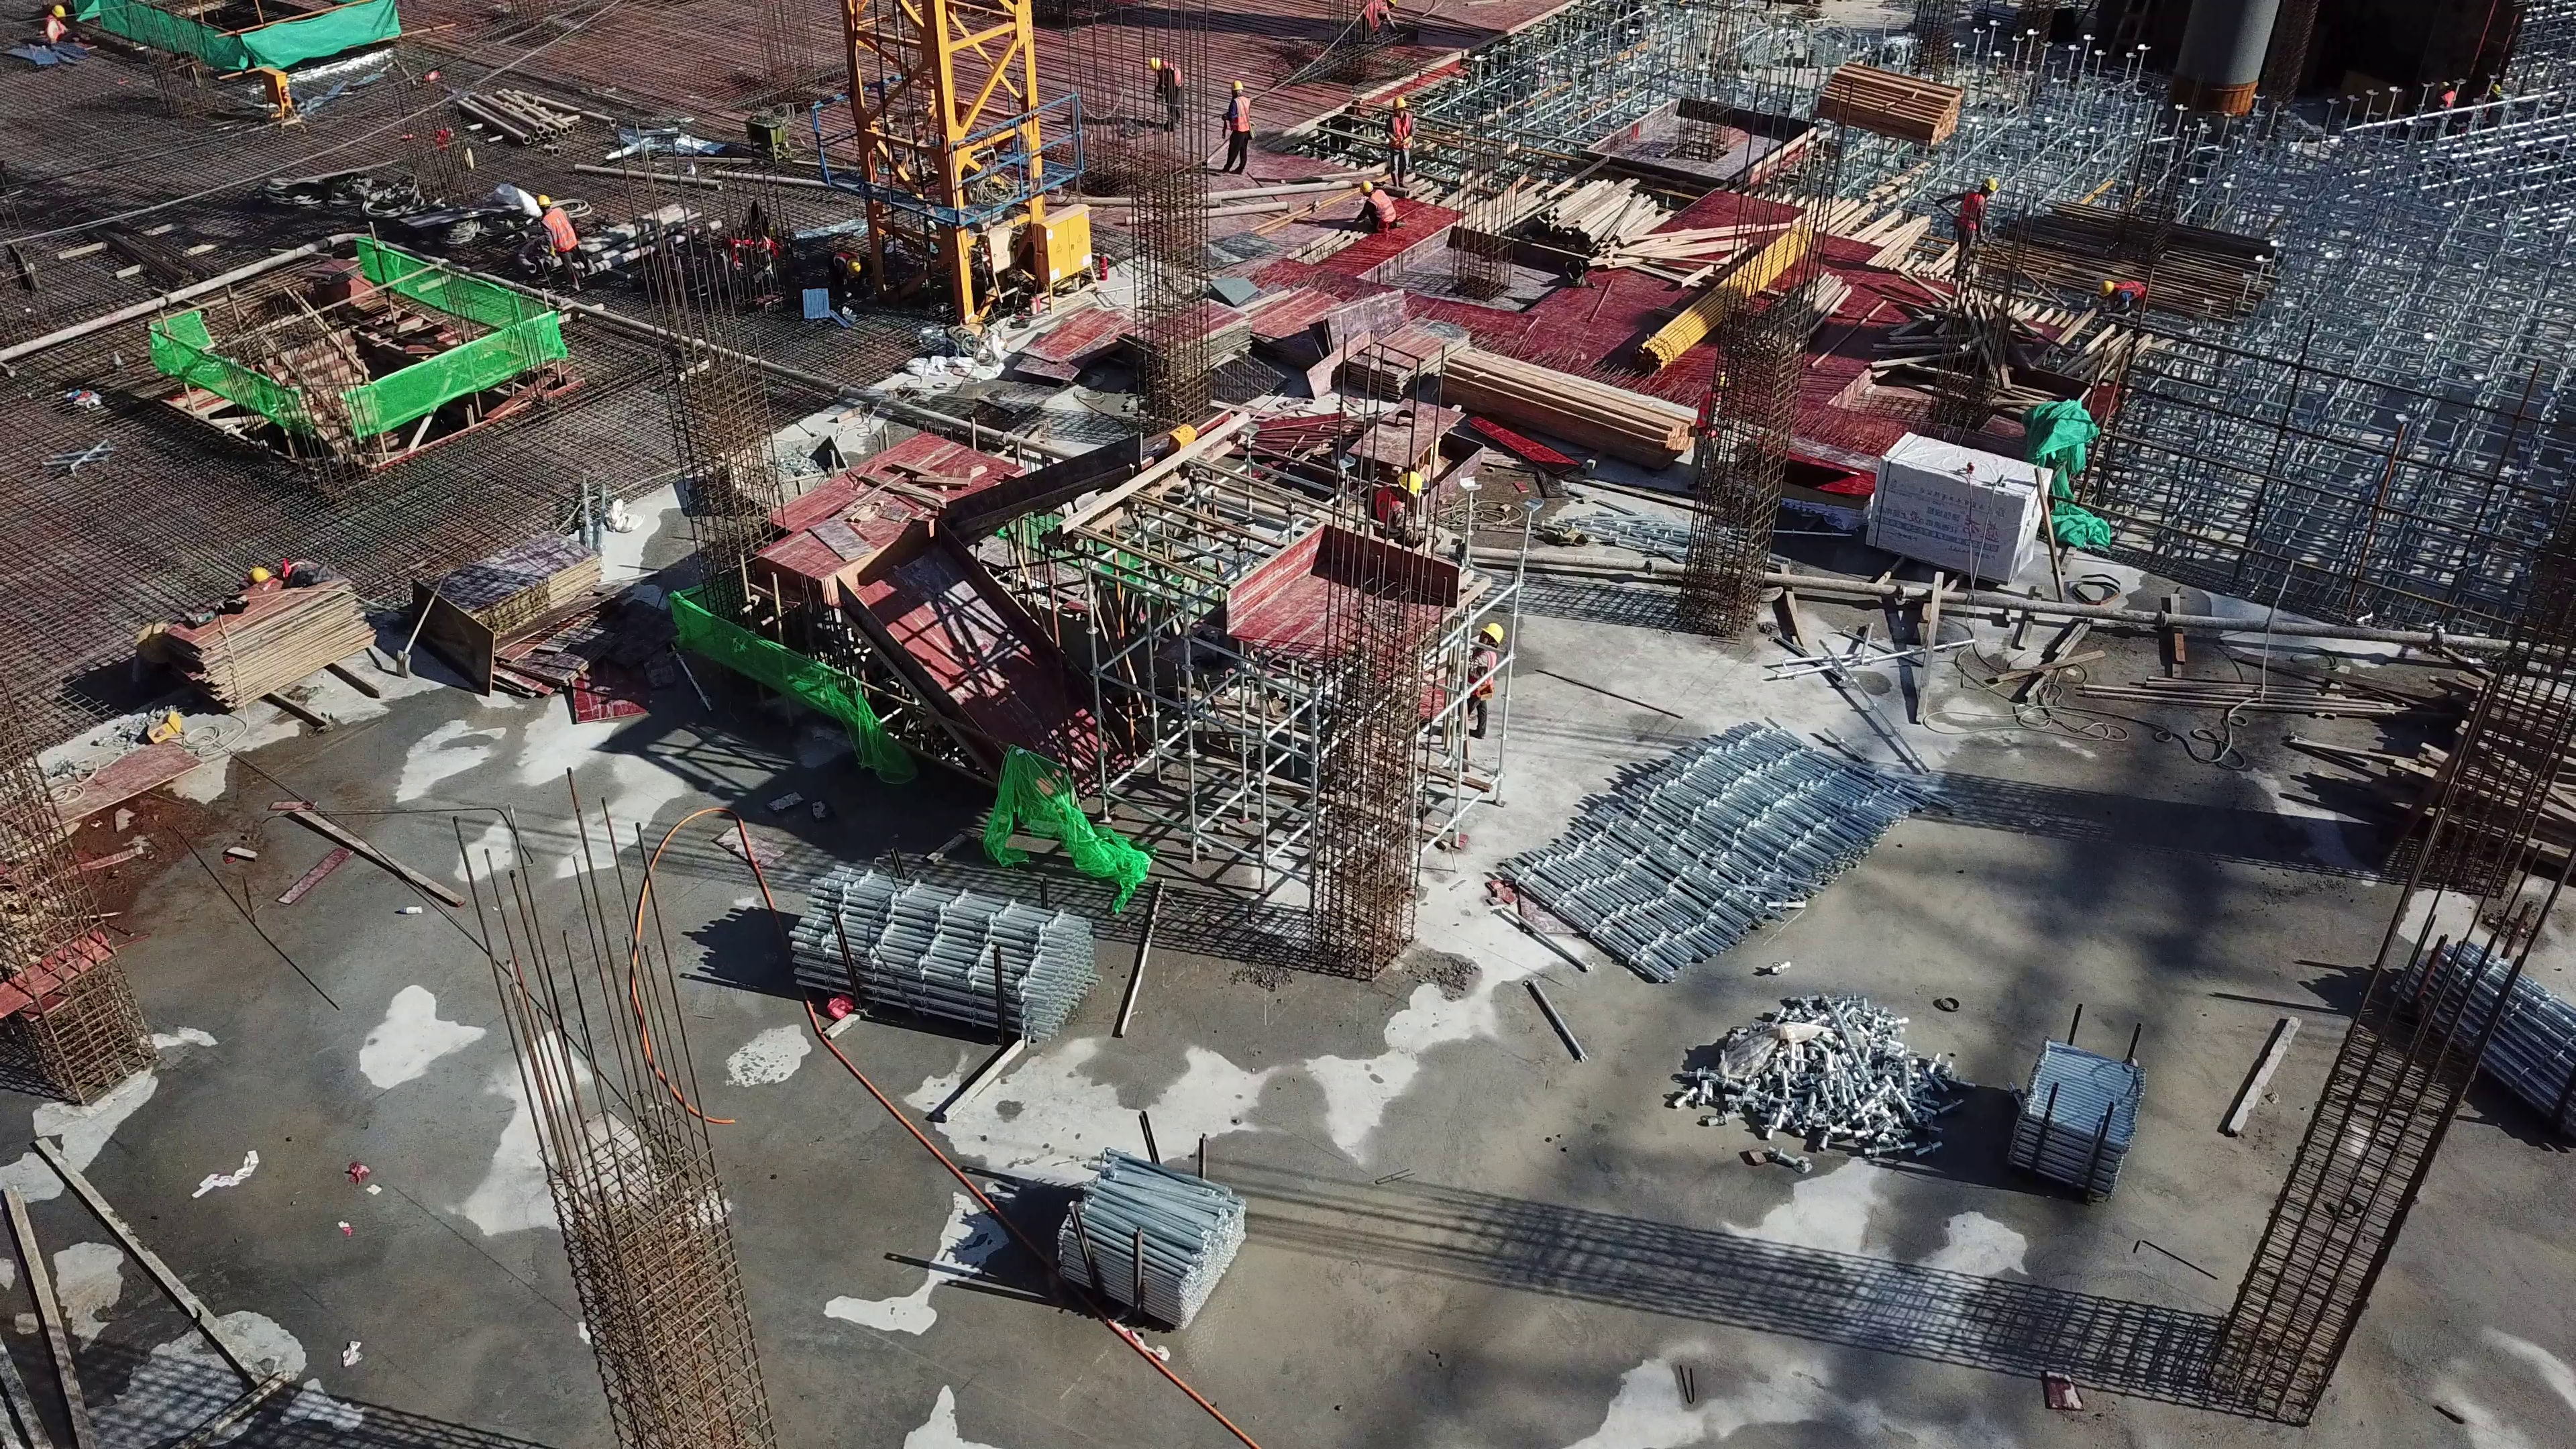board: (128, 549, 364, 724), (411, 515, 604, 689)
person: (531, 197, 586, 299), (1945, 170, 1986, 284), (1472, 604, 1508, 727), (1368, 468, 1432, 532), (1143, 45, 1190, 121), (1222, 80, 1254, 188), (2106, 258, 2152, 327), (1362, 158, 1397, 243), (1385, 97, 1414, 191)
scaffold: (1511, 724, 1898, 984), (770, 853, 1099, 1069), (2394, 928, 2576, 1148), (1061, 1147, 1260, 1337), (2021, 1031, 2147, 1200)
wood: (1446, 348, 1703, 476), (1493, 176, 1709, 269)
